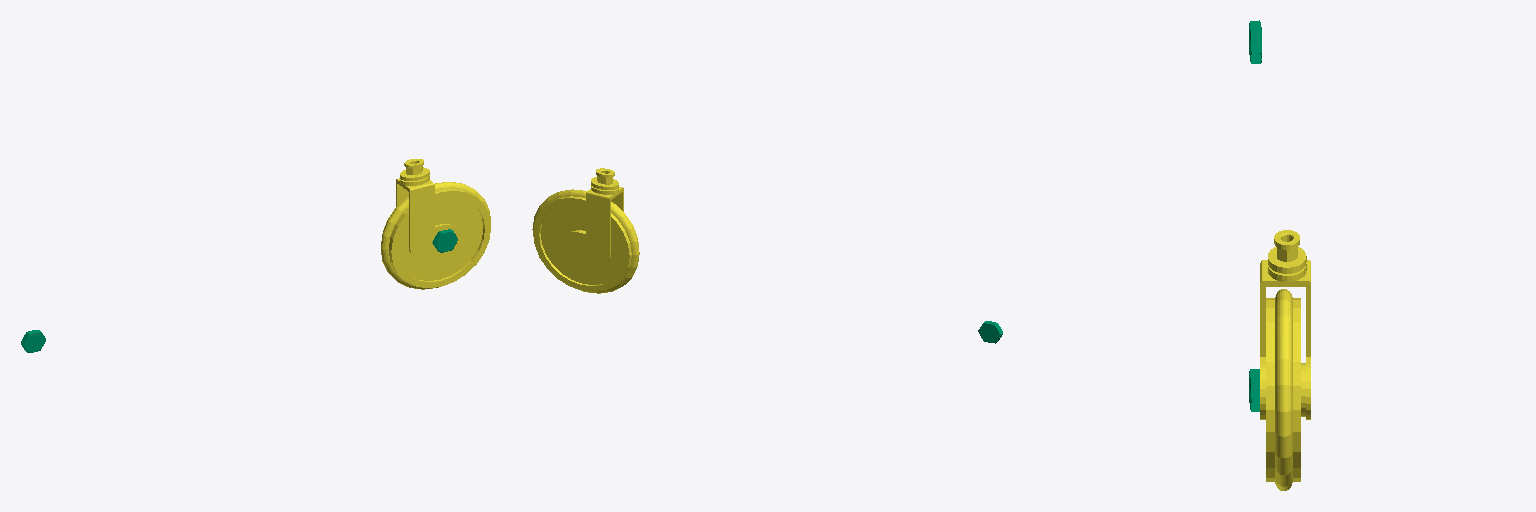
The robot description file, URDF, robot "partnet_1314c9a583812b9fc0eea8e38540939d":
<robot name="partnet_1314c9a583812b9fc0eea8e38540939d">
	<link name="base" />
	<link name="link_0">
		<collision>
			<origin xyz="0 0 0" />
			<geometry>
				<mesh filename="new5_objs/drawer_front-28-0.obj" />
			</geometry>
		</collision>
		<collision>
			<origin xyz="0 0 0" />
			<geometry>
				<mesh filename="new5_objs/drawer_front-28-1.obj" />
			</geometry>
		</collision>
		<collision>
			<origin xyz="0 0 0" />
			<geometry>
				<mesh filename="new5_objs/drawer_front-28-2.obj" />
			</geometry>
		</collision>
		<collision>
			<origin xyz="0 0 0" />
			<geometry>
				<mesh filename="new5_objs/drawer_front-28-3.obj" />
			</geometry>
		</collision>
		<collision>
			<origin xyz="0 0 0" />
			<geometry>
				<mesh filename="new5_objs/drawer_front-28-4.obj" />
			</geometry>
		</collision>
		<collision>
			<origin xyz="0 0 0" />
			<geometry>
				<mesh filename="new5_objs/drawer_front-28-5.obj" />
			</geometry>
		</collision>
		<collision>
			<origin xyz="0 0 0" />
			<geometry>
				<mesh filename="new5_objs/drawer_front-28-6.obj" />
			</geometry>
		</collision>
		<collision>
			<origin xyz="0 0 0" />
			<geometry>
				<mesh filename="new5_objs/drawer_front-28-7.obj" />
			</geometry>
		</collision>
		<collision>
			<origin xyz="0 0 0" />
			<geometry>
				<mesh filename="new5_objs/drawer_front-28-8.obj" />
			</geometry>
		</collision>
		<collision>
			<origin xyz="0 0 0" />
			<geometry>
				<mesh filename="new5_objs/drawer_front-28-9.obj" />
			</geometry>
		</collision>
		<collision>
			<origin xyz="0 0 0" />
			<geometry>
				<mesh filename="new5_objs/drawer_front-28-10.obj" />
			</geometry>
		</collision>
		<collision>
			<origin xyz="0 0 0" />
			<geometry>
				<mesh filename="new5_objs/drawer_front-28-11.obj" />
			</geometry>
		</collision>
		<collision>
			<origin xyz="0 0 0" />
			<geometry>
				<mesh filename="new5_objs/handle-27-0.obj" />
			</geometry>
		</collision>
		<collision>
			<origin xyz="0 0 0" />
			<geometry>
				<mesh filename="new5_objs/handle-27-1.obj" />
			</geometry>
		</collision>
		<collision>
			<origin xyz="0 0 0" />
			<geometry>
				<mesh filename="new5_objs/handle-27-2.obj" />
			</geometry>
		</collision>
		<collision>
			<origin xyz="0 0 0" />
			<geometry>
				<mesh filename="new5_objs/handle-27-3.obj" />
			</geometry>
		</collision>
		<collision>
			<origin xyz="0 0 0" />
			<geometry>
				<mesh filename="new5_objs/handle-27-4.obj" />
			</geometry>
		</collision>
		<collision>
			<origin xyz="0 0 0" />
			<geometry>
				<mesh filename="new5_objs/handle-27-5.obj" />
			</geometry>
		</collision>
		<collision>
			<origin xyz="0 0 0" />
			<geometry>
				<mesh filename="new5_objs/handle-27-6.obj" />
			</geometry>
		</collision>
		<visual name="drawer_front-28">
			<origin xyz="0 0 0" />
			<geometry>
				<mesh filename="textured_objs/original-10.obj" />
			</geometry>
		</visual>
		<visual name="handle-27">
			<origin xyz="0 0 0" />
			<geometry>
				<mesh filename="textured_objs/original-11.obj" />
			</geometry>
		</visual>
		</link>
	<joint name="joint_0" type="prismatic">
		<origin xyz="0 0 0" />
		<axis xyz="0 0 1" />
		<child link="link_0" />
		<parent link="link_2" />
		<limit lower="0" upper="1" />
	</joint>
	<link name="link_1">
		<collision>
			<origin xyz="0 0 0" />
			<geometry>
				<mesh filename="new5_objs/handle-24-0.obj" />
			</geometry>
		</collision>
		<collision>
			<origin xyz="0 0 0" />
			<geometry>
				<mesh filename="new5_objs/handle-24-1.obj" />
			</geometry>
		</collision>
		<collision>
			<origin xyz="0 0 0" />
			<geometry>
				<mesh filename="new5_objs/handle-24-2.obj" />
			</geometry>
		</collision>
		<collision>
			<origin xyz="0 0 0" />
			<geometry>
				<mesh filename="new5_objs/handle-24-3.obj" />
			</geometry>
		</collision>
		<collision>
			<origin xyz="0 0 0" />
			<geometry>
				<mesh filename="new5_objs/handle-24-4.obj" />
			</geometry>
		</collision>
		<collision>
			<origin xyz="0 0 0" />
			<geometry>
				<mesh filename="new5_objs/handle-24-5.obj" />
			</geometry>
		</collision>
		<collision>
			<origin xyz="0 0 0" />
			<geometry>
				<mesh filename="new5_objs/handle-24-6.obj" />
			</geometry>
		</collision>
		<collision>
			<origin xyz="0 0 0" />
			<geometry>
				<mesh filename="new5_objs/drawer_front-25-0.obj" />
			</geometry>
		</collision>
		<collision>
			<origin xyz="0 0 0" />
			<geometry>
				<mesh filename="new5_objs/drawer_front-25-1.obj" />
			</geometry>
		</collision>
		<collision>
			<origin xyz="0 0 0" />
			<geometry>
				<mesh filename="new5_objs/drawer_front-25-2.obj" />
			</geometry>
		</collision>
		<collision>
			<origin xyz="0 0 0" />
			<geometry>
				<mesh filename="new5_objs/drawer_front-25-3.obj" />
			</geometry>
		</collision>
		<collision>
			<origin xyz="0 0 0" />
			<geometry>
				<mesh filename="new5_objs/drawer_front-25-4.obj" />
			</geometry>
		</collision>
		<collision>
			<origin xyz="0 0 0" />
			<geometry>
				<mesh filename="new5_objs/drawer_front-25-5.obj" />
			</geometry>
		</collision>
		<collision>
			<origin xyz="0 0 0" />
			<geometry>
				<mesh filename="new5_objs/drawer_front-25-6.obj" />
			</geometry>
		</collision>
		<collision>
			<origin xyz="0 0 0" />
			<geometry>
				<mesh filename="new5_objs/drawer_front-25-7.obj" />
			</geometry>
		</collision>
		<collision>
			<origin xyz="0 0 0" />
			<geometry>
				<mesh filename="new5_objs/drawer_front-25-8.obj" />
			</geometry>
		</collision>
		<collision>
			<origin xyz="0 0 0" />
			<geometry>
				<mesh filename="new5_objs/drawer_front-25-9.obj" />
			</geometry>
		</collision>
		<collision>
			<origin xyz="0 0 0" />
			<geometry>
				<mesh filename="new5_objs/drawer_front-25-10.obj" />
			</geometry>
		</collision>
		<collision>
			<origin xyz="0 0 0" />
			<geometry>
				<mesh filename="new5_objs/drawer_front-25-11.obj" />
			</geometry>
		</collision>
		<collision>
			<origin xyz="0 0 0" />
			<geometry>
				<mesh filename="new5_objs/drawer_bottom-29-0.obj" />
			</geometry>
		</collision>
		<visual name="drawer_front-25">
			<origin xyz="0 0 0" />
			<geometry>
				<mesh filename="textured_objs/original-13.obj" />
			</geometry>
		</visual>
		<visual name="drawer_bottom-29">
			<origin xyz="0 0 0" />
			<geometry>
				<mesh filename="textured_objs/original-2.obj" />
			</geometry>
		</visual>
		<visual name="handle-24">
			<origin xyz="0 0 0" />
			<geometry>
				<mesh filename="textured_objs/original-14.obj" />
			</geometry>
		</visual>
		</link>
	<joint name="joint_1" type="prismatic">
		<origin xyz="0 0 0" />
		<axis xyz="0 0 1" />
		<child link="link_1" />
		<parent link="link_2" />
		<limit lower="0" upper="1" />
	</joint>
	<link name="link_2">
		<collision>
			<origin xyz="0 0 0" />
			<geometry>
				<mesh filename="new5_objs/vertical_side_panel-20-0.obj" />
			</geometry>
		</collision>
		<collision>
			<origin xyz="0 0 0" />
			<geometry>
				<mesh filename="new5_objs/bottom_panel-22-0.obj" />
			</geometry>
		</collision>
		<collision>
			<origin xyz="0 0 0" />
			<geometry>
				<mesh filename="new5_objs/board-32-0.obj" />
			</geometry>
		</collision>
		<collision>
			<origin xyz="0 0 0" />
			<geometry>
				<mesh filename="new5_objs/back_panel-19-0.obj" />
			</geometry>
		</collision>
		<collision>
			<origin xyz="0 0 0" />
			<geometry>
				<mesh filename="new5_objs/vertical_side_panel-21-0.obj" />
			</geometry>
		</collision>
		<visual name="board-32">
			<origin xyz="0 0 0" />
			<geometry>
				<mesh filename="textured_objs/original-1.obj" />
			</geometry>
		</visual>
		<visual name="board-32">
			<origin xyz="0 0 0" />
			<geometry>
				<mesh filename="textured_objs/original-5.obj" />
			</geometry>
		</visual>
		<visual name="back_panel-19">
			<origin xyz="0 0 0" />
			<geometry>
				<mesh filename="textured_objs/original-4.obj" />
			</geometry>
		</visual>
		<visual name="vertical_side_panel-20">
			<origin xyz="0 0 0" />
			<geometry>
				<mesh filename="textured_objs/original-8.obj" />
			</geometry>
		</visual>
		<visual name="vertical_side_panel-21">
			<origin xyz="0 0 0" />
			<geometry>
				<mesh filename="textured_objs/original-7.obj" />
			</geometry>
		</visual>
		<visual name="bottom_panel-22">
			<origin xyz="0 0 0" />
			<geometry>
				<mesh filename="textured_objs/original-6.obj" />
			</geometry>
		</visual>
		</link>
	<joint name="joint_2" type="fixed">
		<origin rpy="1.570796326794897 0 -1.570796326794897" xyz="0 0 0" />
		<child link="link_2" />
		<parent link="base" />
	</joint>
</robot>

--- Render facts (derived) ---
The picture shows the robot from 3 angles, left to right: view 1: azimuth 30°, elevation 25°; view 2: azimuth 150°, elevation 25°; view 3: azimuth 270°, elevation 25°; orthographic projection.
Robot: partnet_1314c9a583812b9fc0eea8e38540939d — 4 links, 3 joints (2 prismatic, 1 fixed); root link base; default pose: all joints at 0.
Links seen in each view (by area): view 1: link_2, link_1; view 2: link_2; view 3: link_2, link_1.
Link boxes in pixels (bbox=[...]): link_2: bbox=[381, 159, 490, 289]; link_1: bbox=[21, 229, 457, 352]; link_2: bbox=[532, 168, 639, 293]; link_2: bbox=[1260, 230, 1310, 490]; link_1: bbox=[1249, 20, 1261, 411].
Size in the robot's own frame: 1.05 by 0.069 by 0.2741 metres.
7 mesh visuals loaded from 11 distinct referenced files (7 OBJ); not drawn: 4 (reference not matched to a file when rendering).